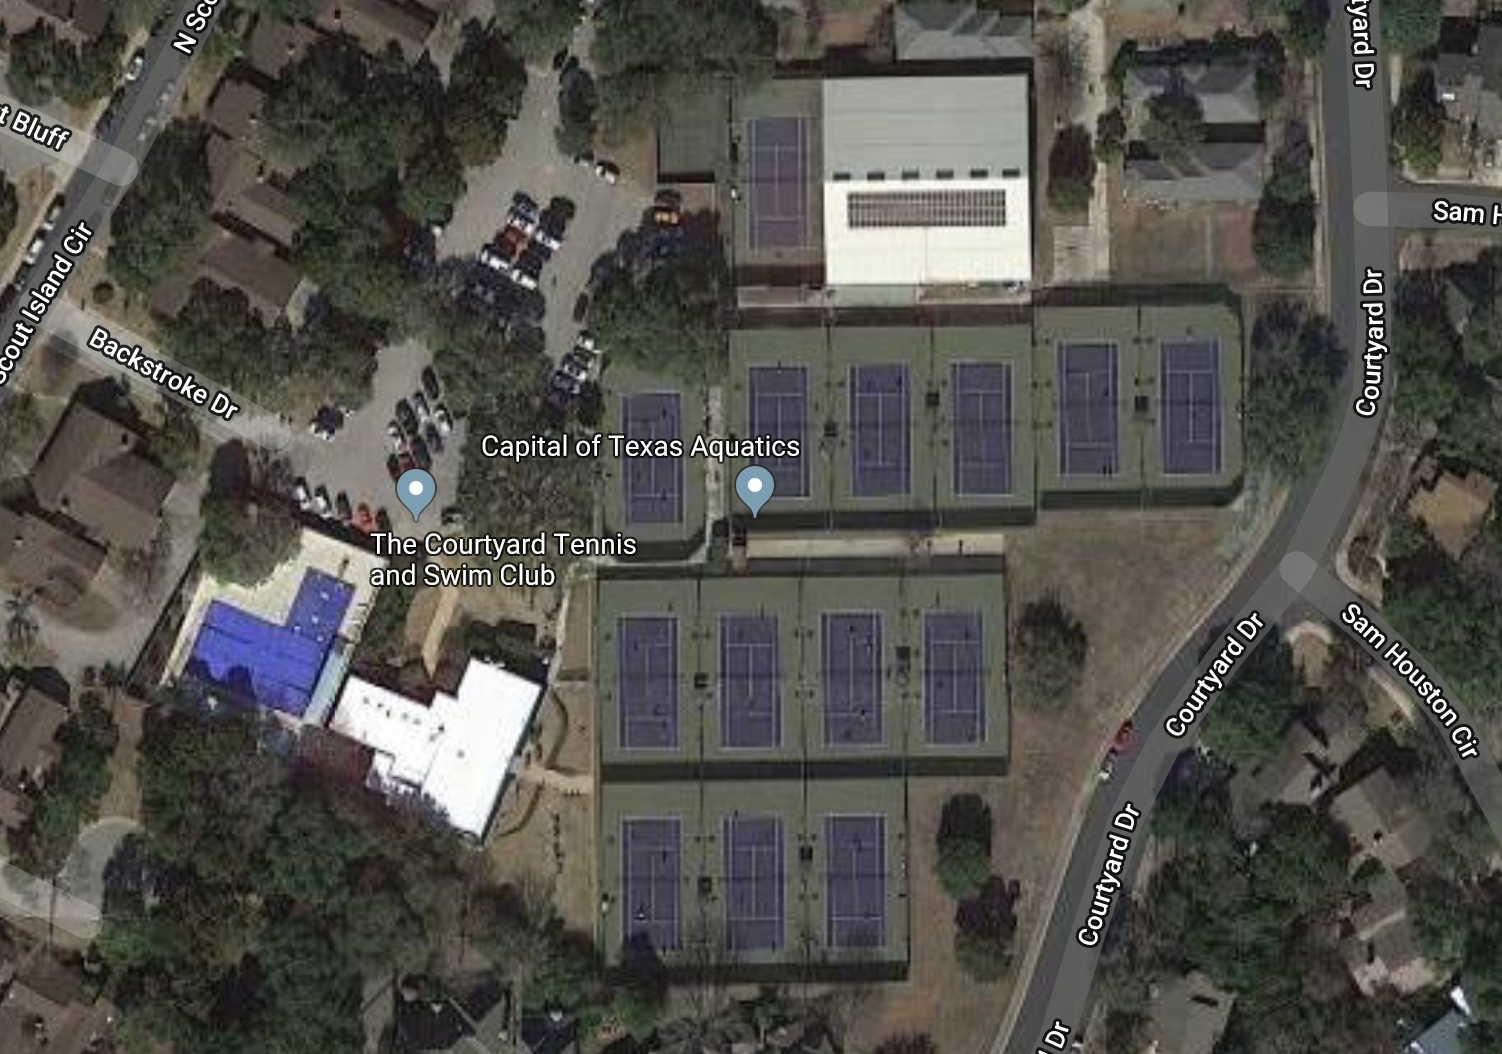tennis: (808, 602, 901, 764), (817, 808, 901, 972), (921, 602, 1002, 761), (611, 814, 692, 960), (711, 605, 788, 756), (719, 813, 794, 954), (609, 608, 680, 753)
